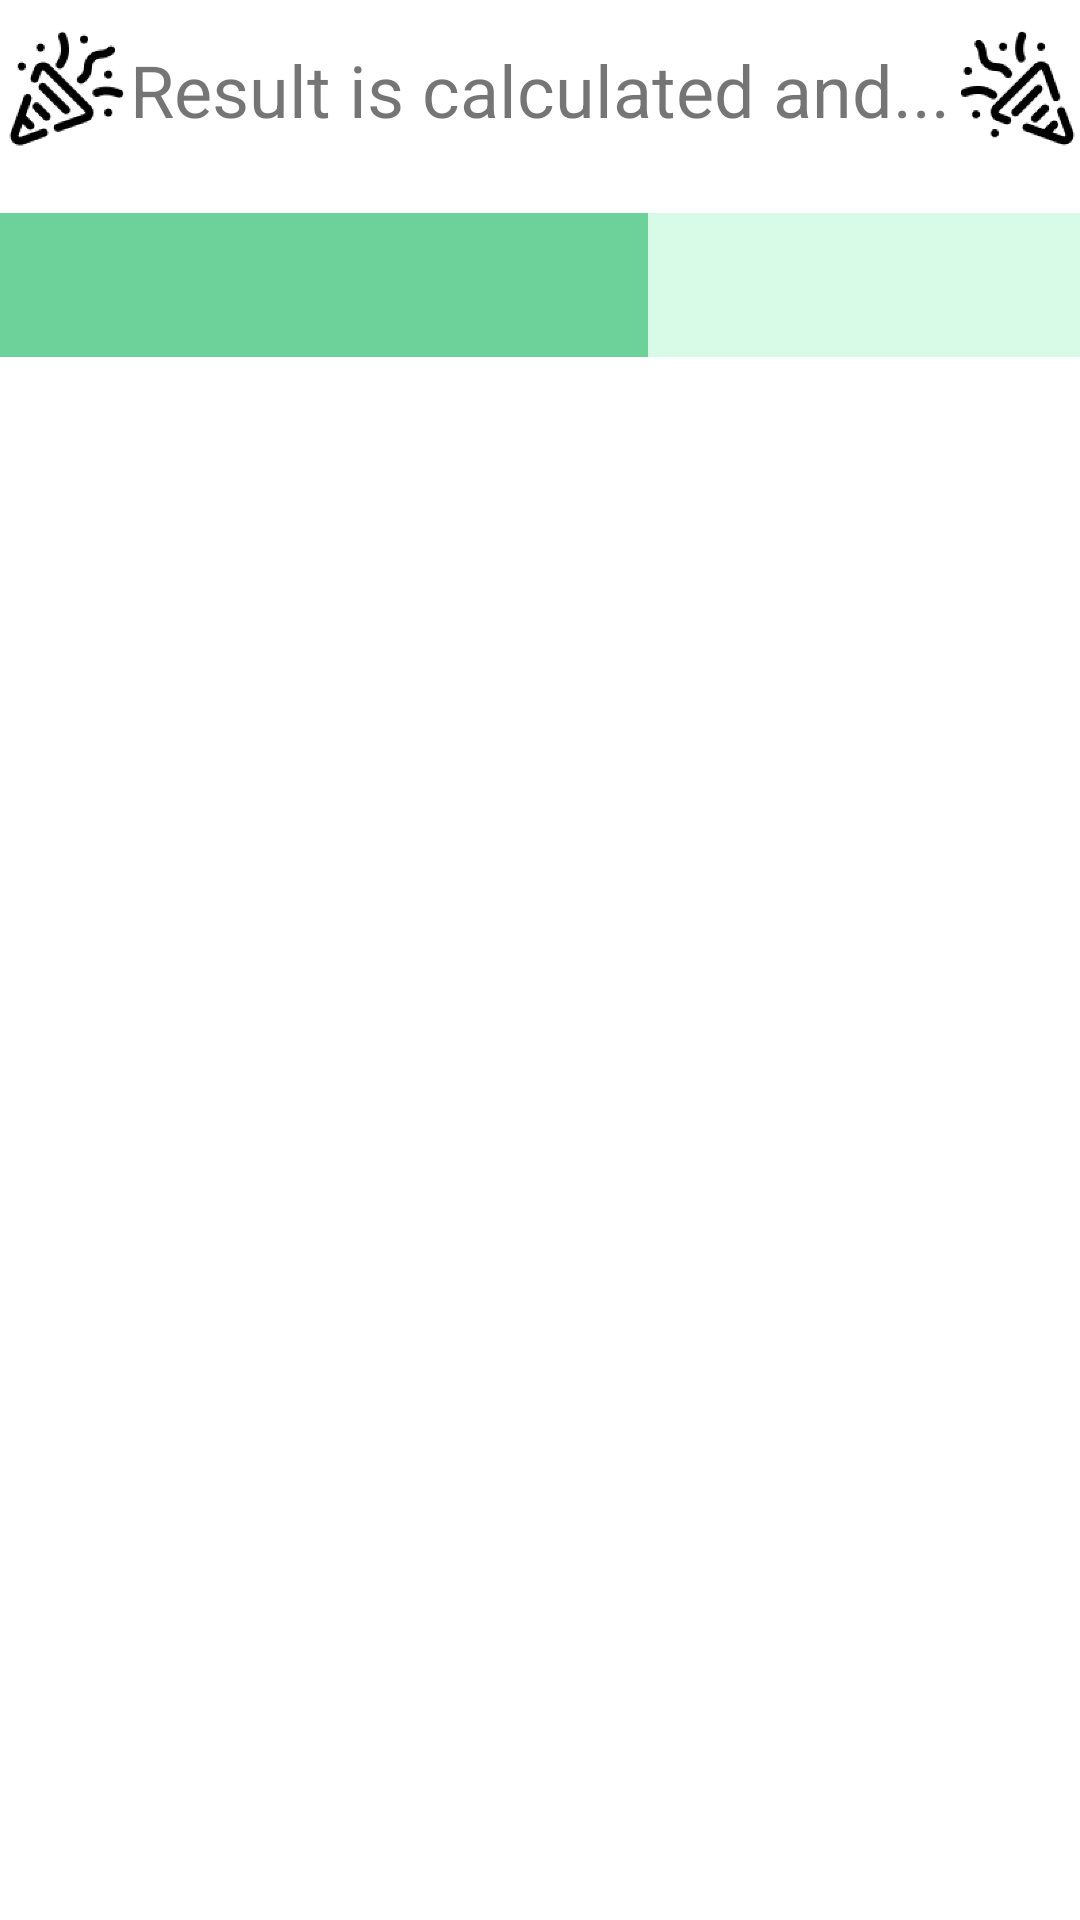

Icon click points for this 1080×1920 phone screenshot, format (x,y):
confetti: (66,89)
confetti iconr: (1018,89)
